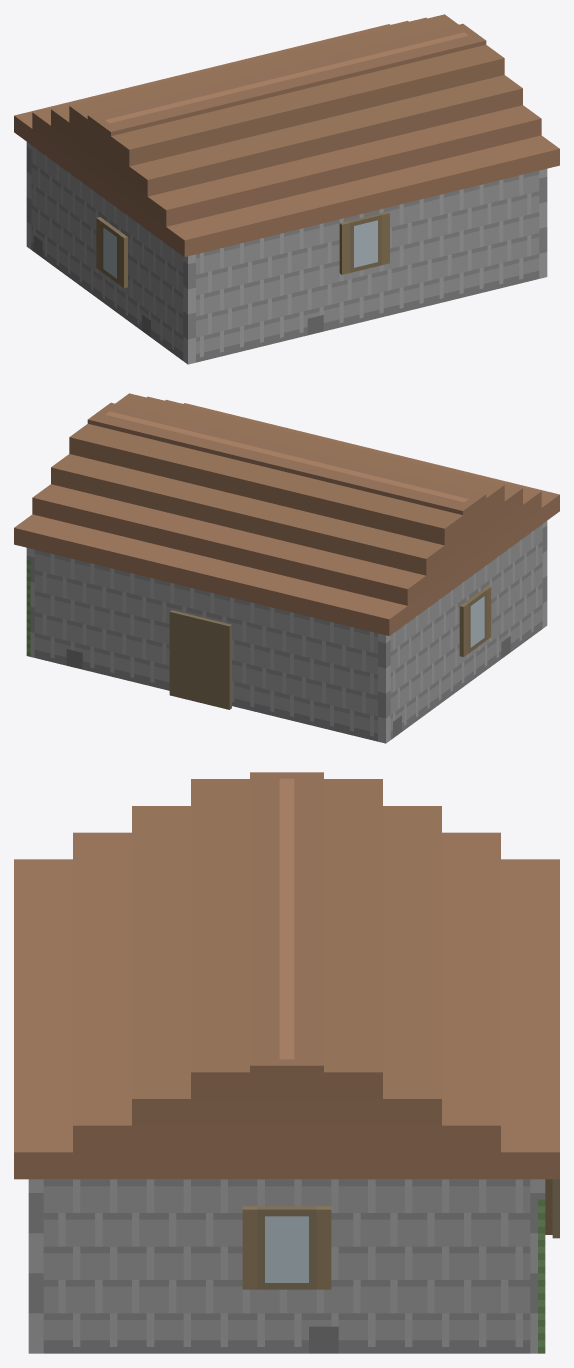
Rendered from cantera_02.glb.
3 views of the same model, one above another, from view 1: azimuth 30°, elevation 25°; view 2: azimuth 150°, elevation 25°; view 3: azimuth 270°, elevation 25° (orthographic). The views are drawn at different scales.
Visible parts, largest first — view 1: cantera_02; view 2: cantera_02; view 3: cantera_02.
Boxes of the visible parts, x1=… form: cantera_02: x1=14, y1=14, x2=559, y2=364; cantera_02: x1=14, y1=393, x2=559, y2=743; cantera_02: x1=14, y1=772, x2=559, y2=1353.
Bounding box in the file's own units: 9.4 × 4.4 × 7.4.
